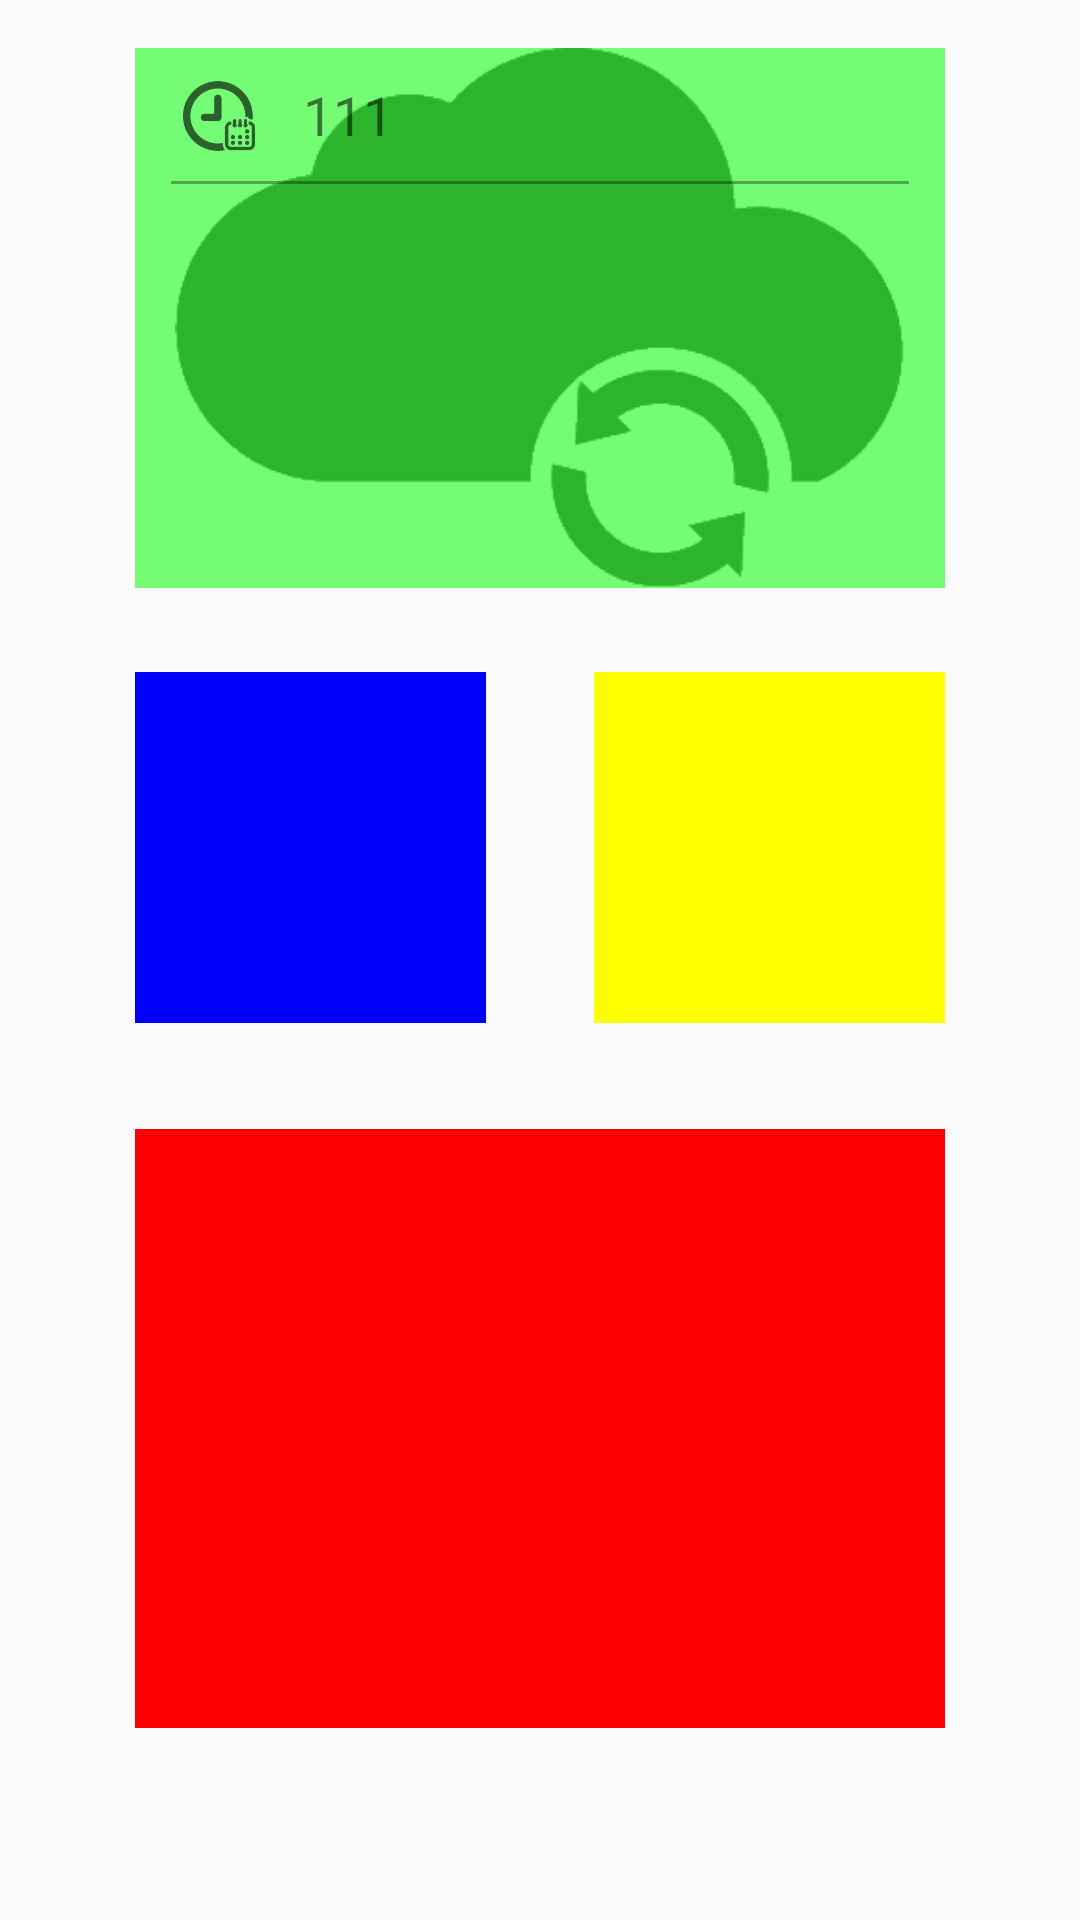

Icons on this 1080 x 1920 Android screen, each with the point to tap as (x,y):
clock: (219,116)
